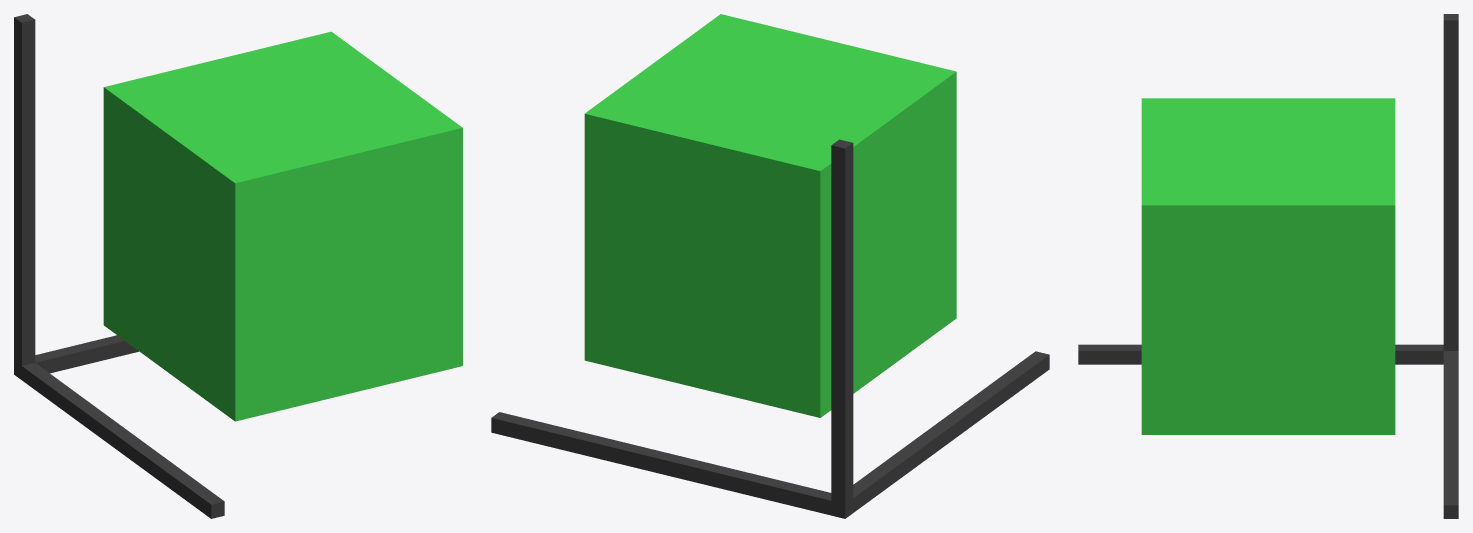
Rendered from cubo 1.fbx.
3 renders of one model, left to right at view 1: azimuth 30°, elevation 25°; view 2: azimuth 150°, elevation 25°; view 3: azimuth 270°, elevation 25°, orthographic. The views are drawn at different scales.
Parts seen in each view (by area): view 1: Object.2, Object.1; view 2: Object.2, Object.1; view 3: Object.2, Object.1.
Part boxes in pixels (<box>): Object.2: <box>103,31,462,421</box>; Object.1: <box>14,14,224,518</box>; Object.2: <box>584,14,956,417</box>; Object.1: <box>491,139,1049,518</box>; Object.2: <box>1141,98,1395,434</box>; Object.1: <box>1078,14,1458,518</box>.
Size of the model in its own units: 6000 by 6000 by 6000.
